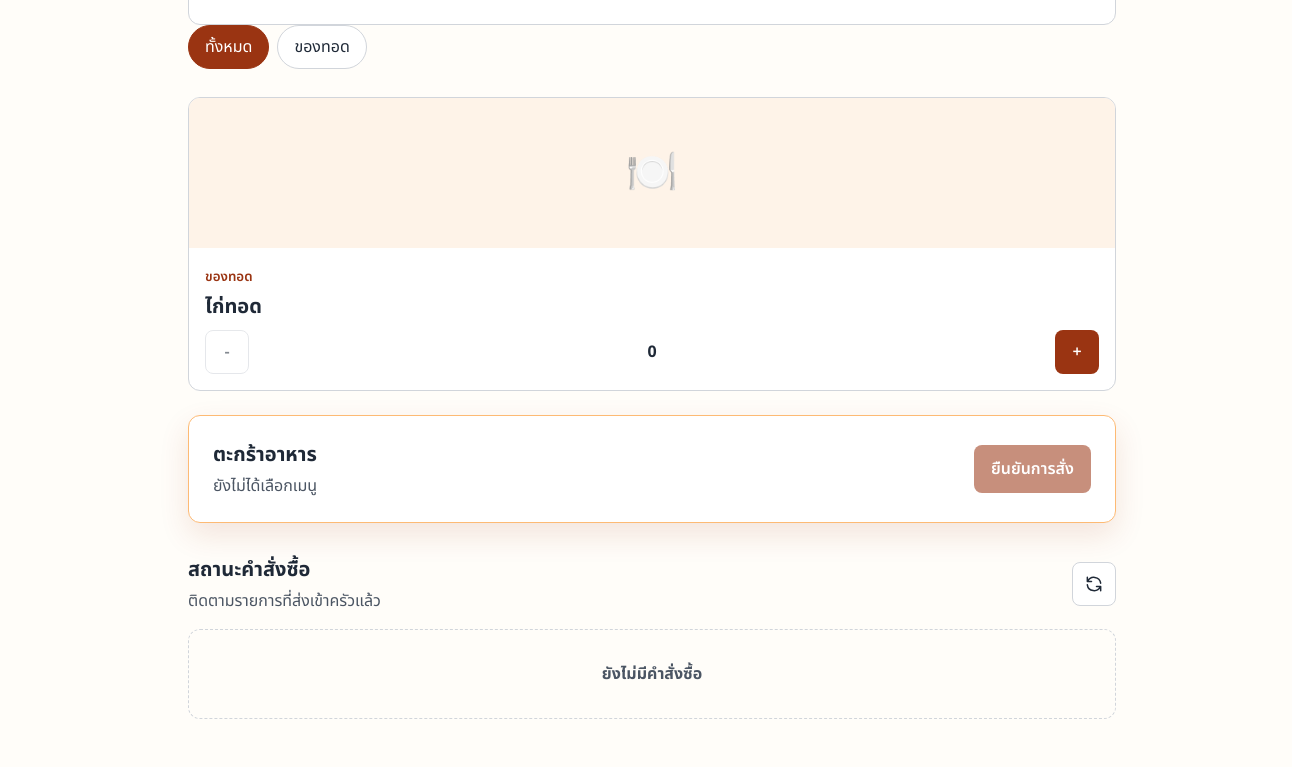
Test: expires from an order-history 401 while an older bill response is pending
The image size is (1292, 767).
(page scrolled)
Expected: the button named "เพิ่ม ไก่ทอด" is shown, [1055, 330, 1099, 374]
Click the button named "อัปเดตสถานะคำสั่งซื้อ". click: (1094, 584)
box: [1072, 562, 1116, 606]
(page scrolled)
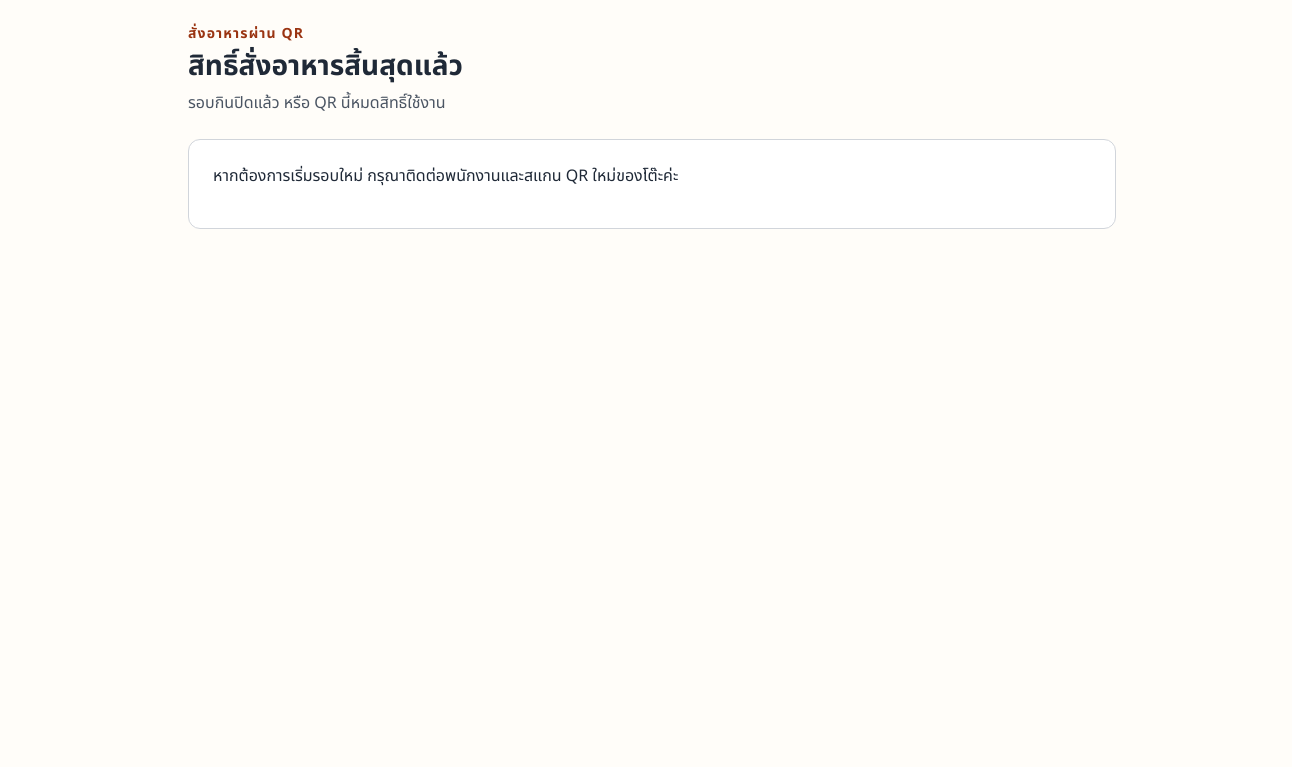
Now the heading "สิทธิ์สั่งอาหารสิ้นสุดแล้ว" is shown, box [188, 49, 463, 85]
Now the button "ยืนยันการสั่ง" is gone
Now the heading "ไก่ทอด" is gone
